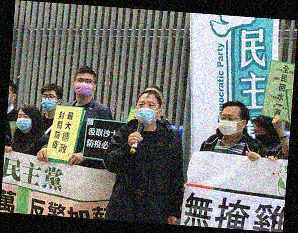with_mask: (134, 99, 159, 127), (219, 111, 243, 136), (74, 75, 95, 99), (40, 91, 58, 112), (252, 127, 269, 147), (17, 112, 32, 134)
